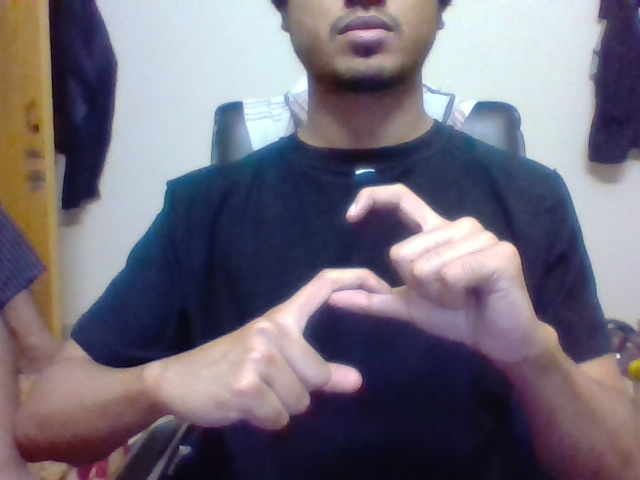S: (294, 180, 416, 397)
